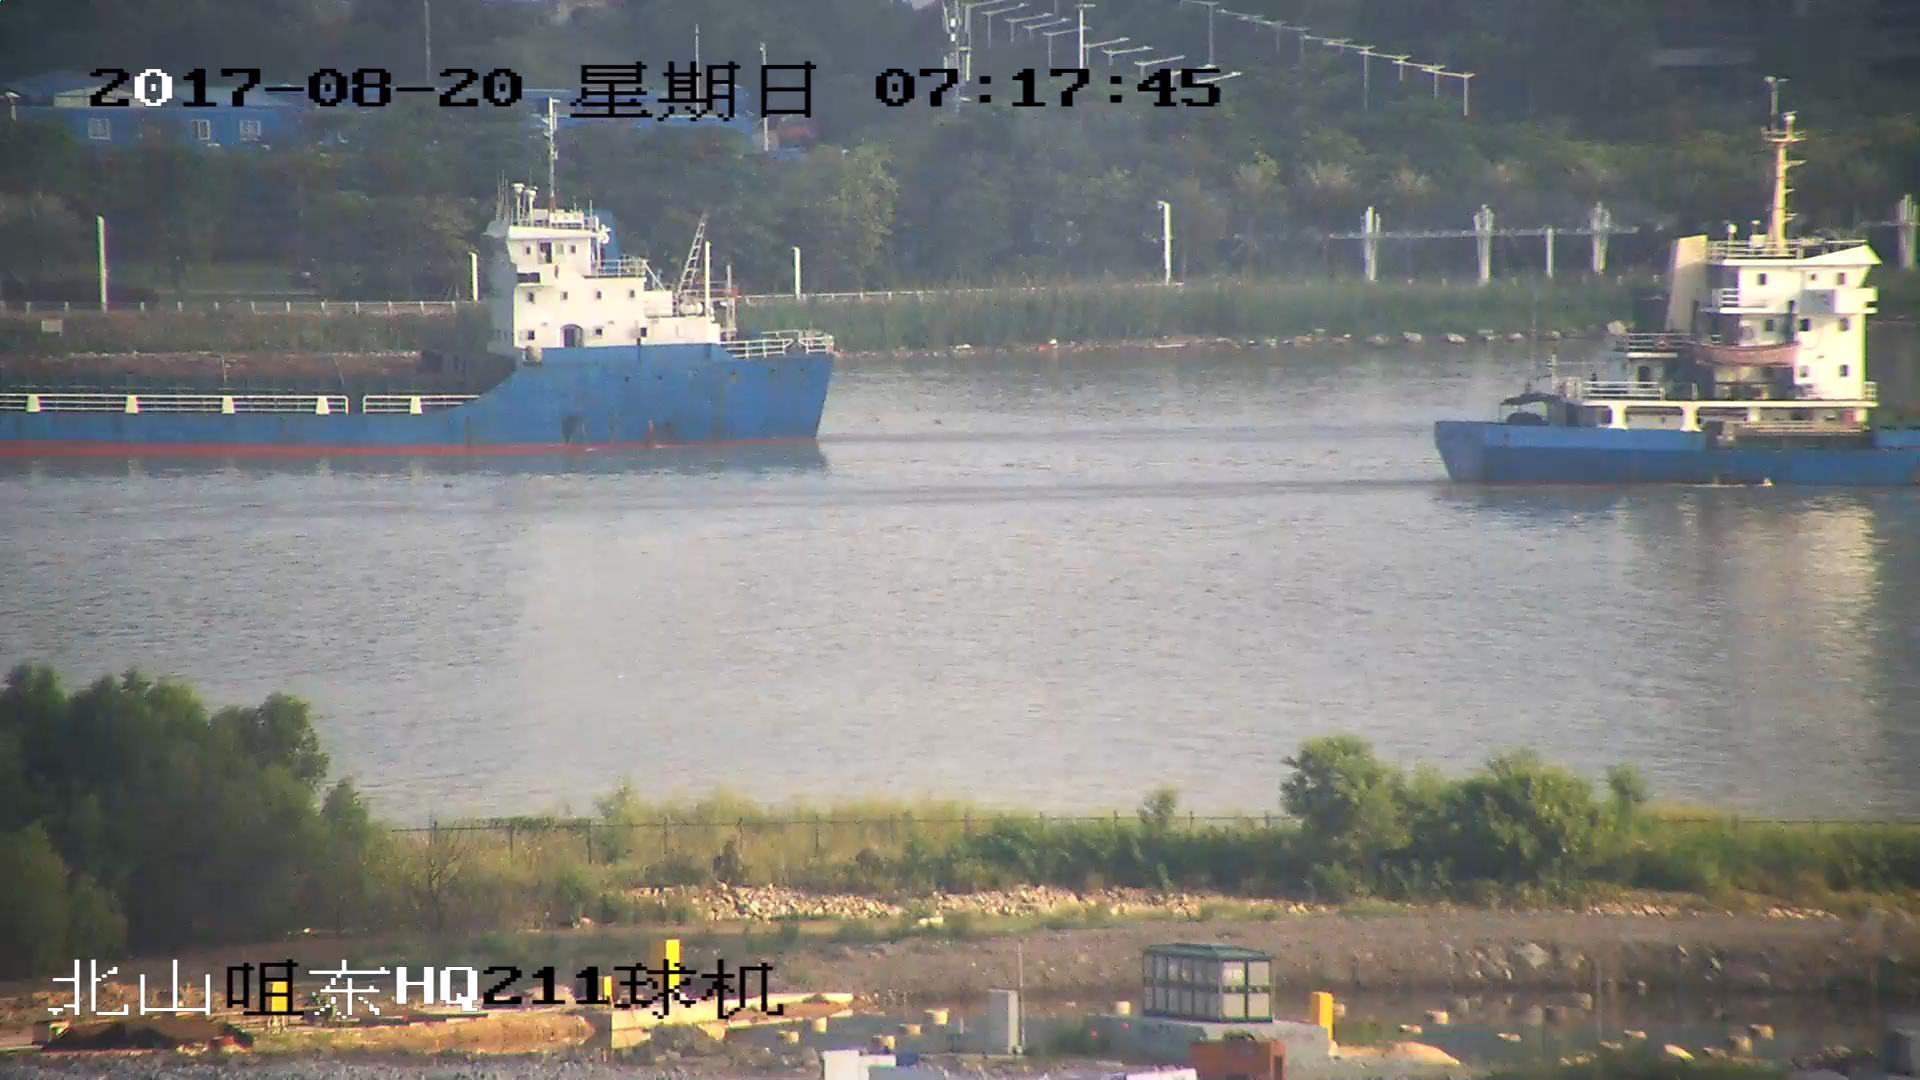Ship: (3, 187, 843, 454), (1425, 167, 1920, 476)
